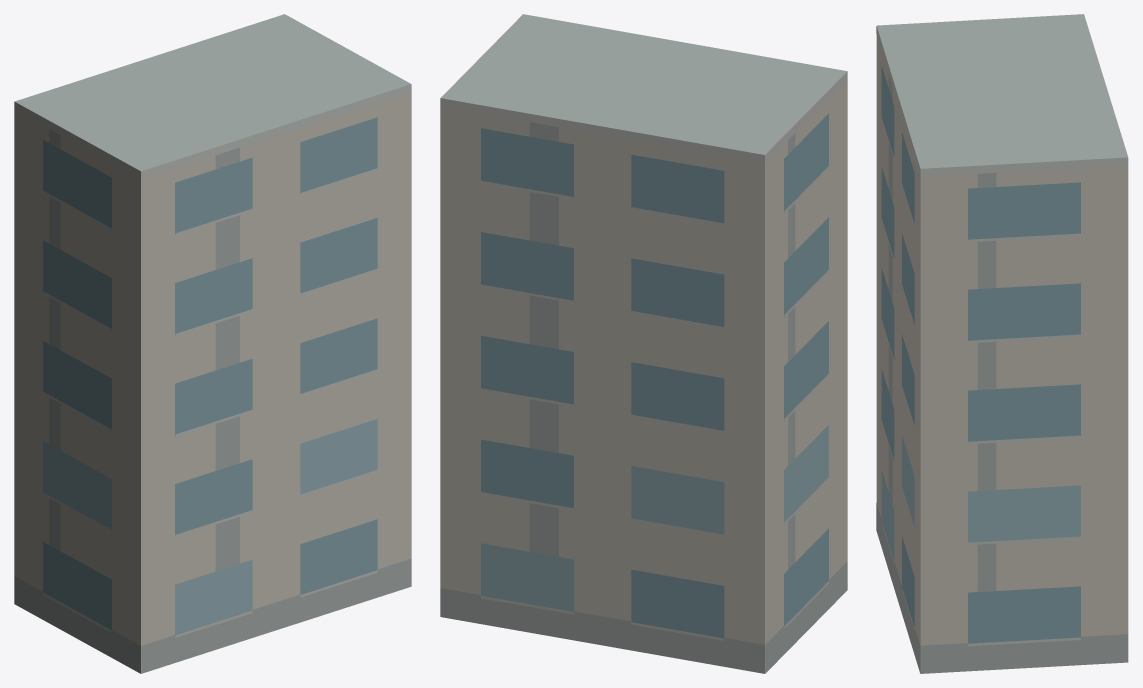
Rendered from residential-3d6d0a13-8c24-432f-8838-de3012de566b.glb.
3 views of the same model, side by side, from view 1: azimuth 30°, elevation 25°; view 2: azimuth 150°, elevation 25°; view 3: azimuth 270°, elevation 25° (orthographic). The views are drawn at different scales.
Visible parts, largest first — view 1: residential-3d6d0a13-8c24-432f-8838-de3012de566b.tmp; view 2: residential-3d6d0a13-8c24-432f-8838-de3012de566b.tmp; view 3: residential-3d6d0a13-8c24-432f-8838-de3012de566b.tmp.
Part boxes in pixels (x1,y1,x2,y2): residential-3d6d0a13-8c24-432f-8838-de3012de566b.tmp: (14, 14, 411, 673); residential-3d6d0a13-8c24-432f-8838-de3012de566b.tmp: (440, 14, 847, 673); residential-3d6d0a13-8c24-432f-8838-de3012de566b.tmp: (876, 14, 1128, 673).
Bounding box in the file's own units: 10.04 × 15.25 × 6.9.
